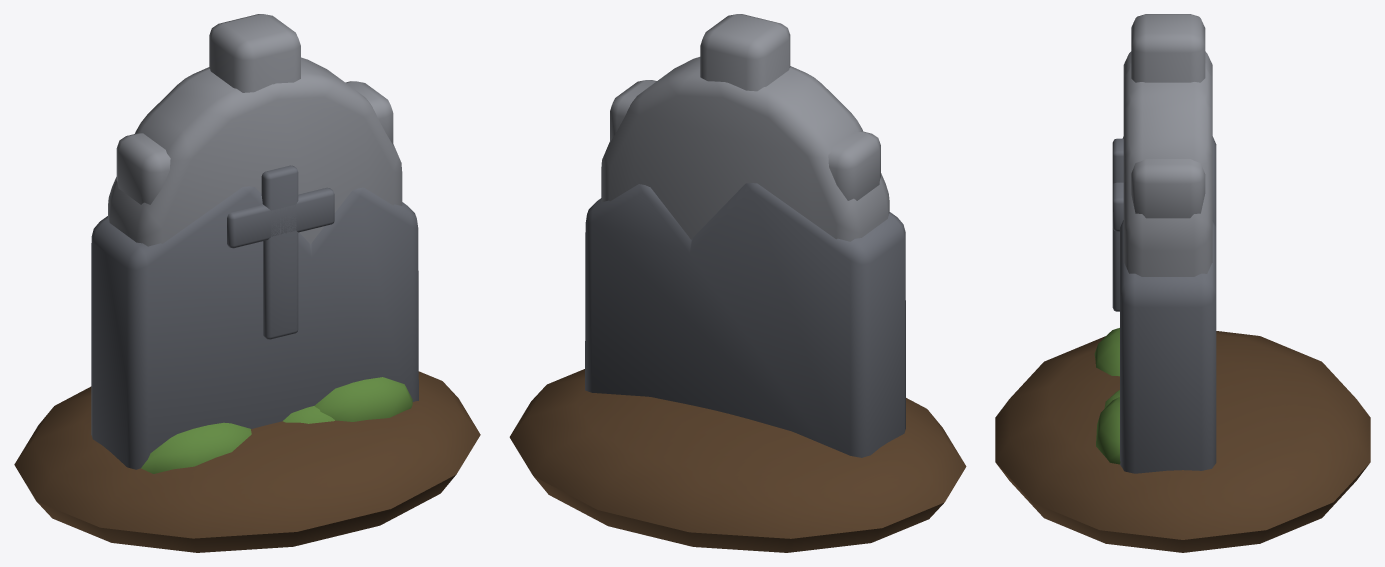
The model's file is lapides.glb.
3 renders of one model, left to right at view 1: azimuth 30°, elevation 25°; view 2: azimuth 150°, elevation 25°; view 3: azimuth 270°, elevation 25°, orthographic. The views are drawn at different scales.
Parts seen in each view (by area): view 1: lapide_a, lapide_c, lapide_b; view 2: lapide_a, lapide_c, lapide_b; view 3: lapide_a, lapide_c, lapide_b.
Boxes of the visible parts, bbox=[...] form: lapide_a: bbox=[14, 57, 480, 552]; lapide_c: bbox=[91, 186, 418, 469]; lapide_b: bbox=[116, 14, 393, 423]; lapide_a: bbox=[509, 57, 966, 552]; lapide_c: bbox=[585, 183, 905, 457]; lapide_b: bbox=[610, 14, 880, 200]; lapide_a: bbox=[995, 51, 1370, 552]; lapide_c: bbox=[1096, 136, 1216, 473]; lapide_b: bbox=[1104, 14, 1205, 408].
Size of the model in its own units: 0.64 by 0.7 by 0.507.
